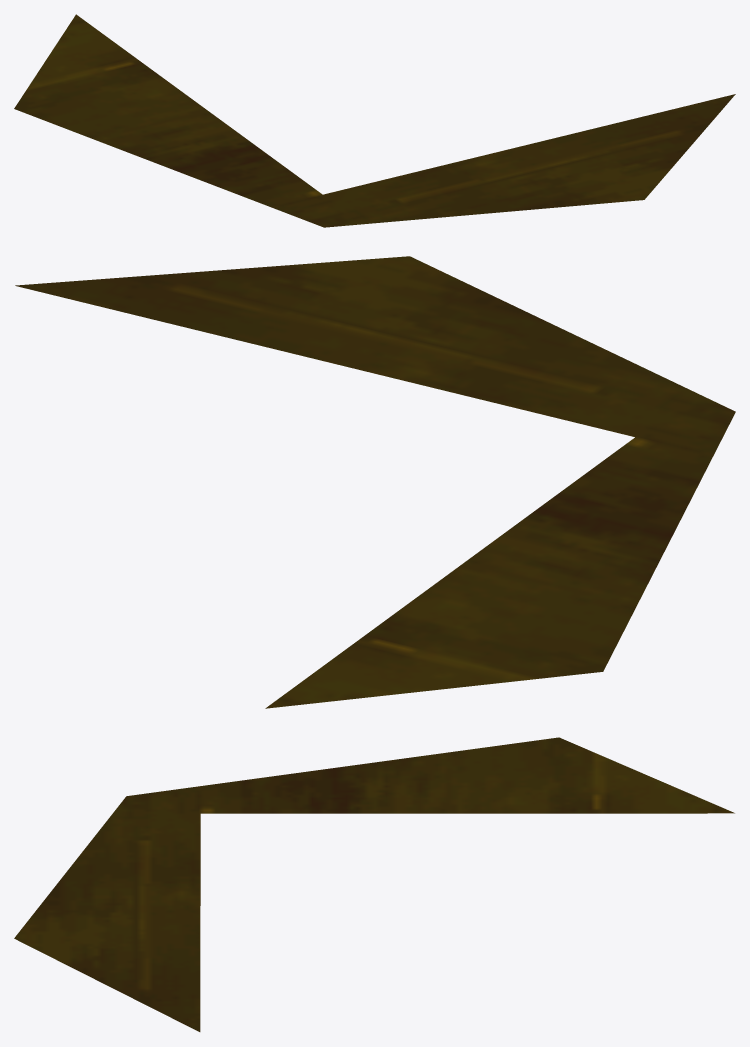
The model's file is BodenErker [BraunesLinoleum]_1136.glb.
3 renders of one model, top to bottom at view 1: azimuth 30°, elevation 25°; view 2: azimuth 150°, elevation 25°; view 3: azimuth 270°, elevation 25°, orthographic. The views are drawn at different scales.
Parts seen in each view (by area): view 1: polySurfaceShape1244; view 2: polySurfaceShape1244; view 3: polySurfaceShape1244.
Part boxes in pixels (x1,y1,x2,y2): polySurfaceShape1244: (14,14,735,227); polySurfaceShape1244: (15,256,735,708); polySurfaceShape1244: (14,737,734,1031).
Size of the model in its own units: 0.2875 by 1.3e-08 by 0.2972.
Materials: 1 (1 with a texture image).
